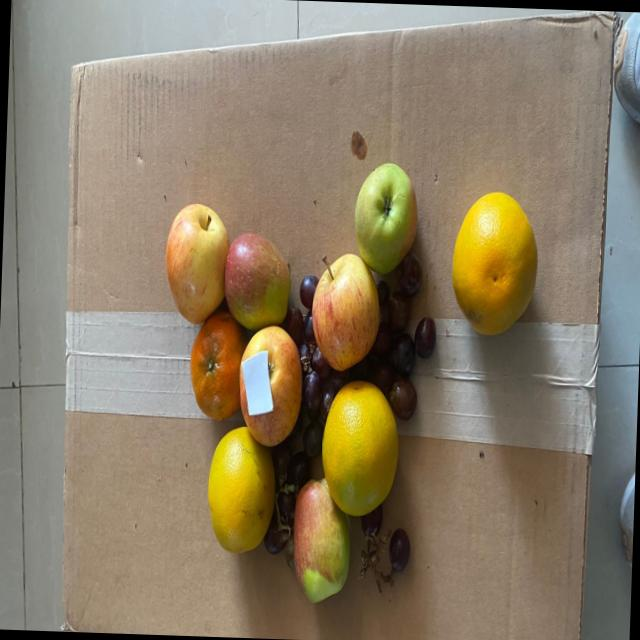hoja: (243, 347, 275, 416)
